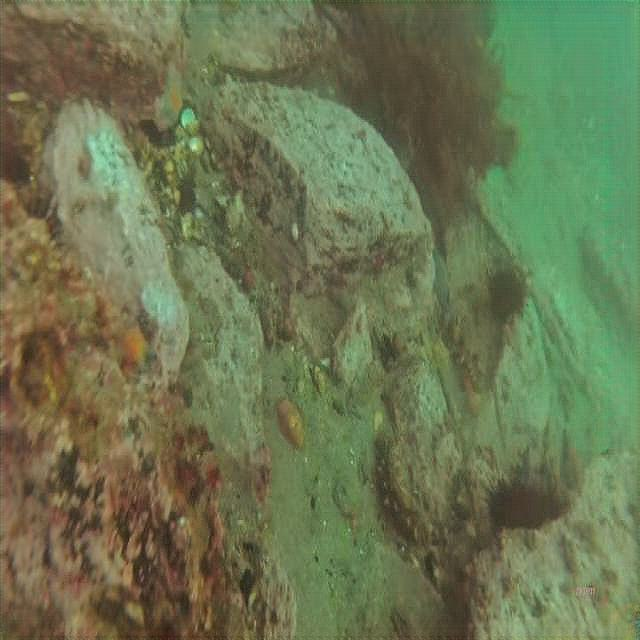echinus: (487, 481, 554, 526), (491, 272, 524, 318)
holothurian: (377, 438, 429, 540), (436, 300, 484, 390)
starfish: (111, 322, 155, 373), (163, 71, 182, 119)
